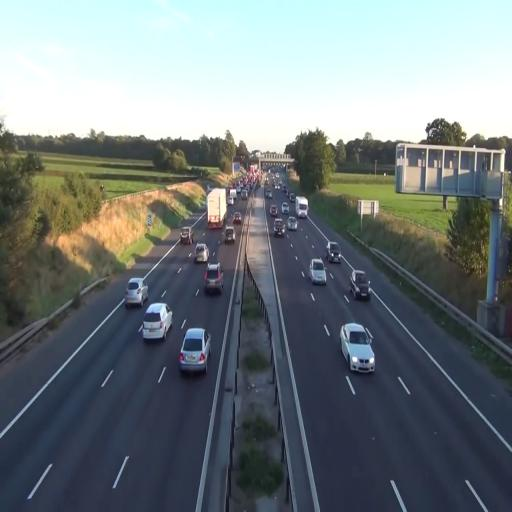vehicle: (340, 321, 376, 375), (178, 327, 211, 376), (140, 302, 173, 342), (206, 189, 226, 230), (204, 261, 224, 294), (350, 269, 370, 301), (125, 278, 145, 308), (310, 258, 327, 286), (190, 243, 210, 264), (327, 241, 341, 262), (273, 219, 286, 238), (296, 197, 308, 217), (223, 226, 235, 244), (180, 228, 192, 246), (286, 214, 298, 231)
